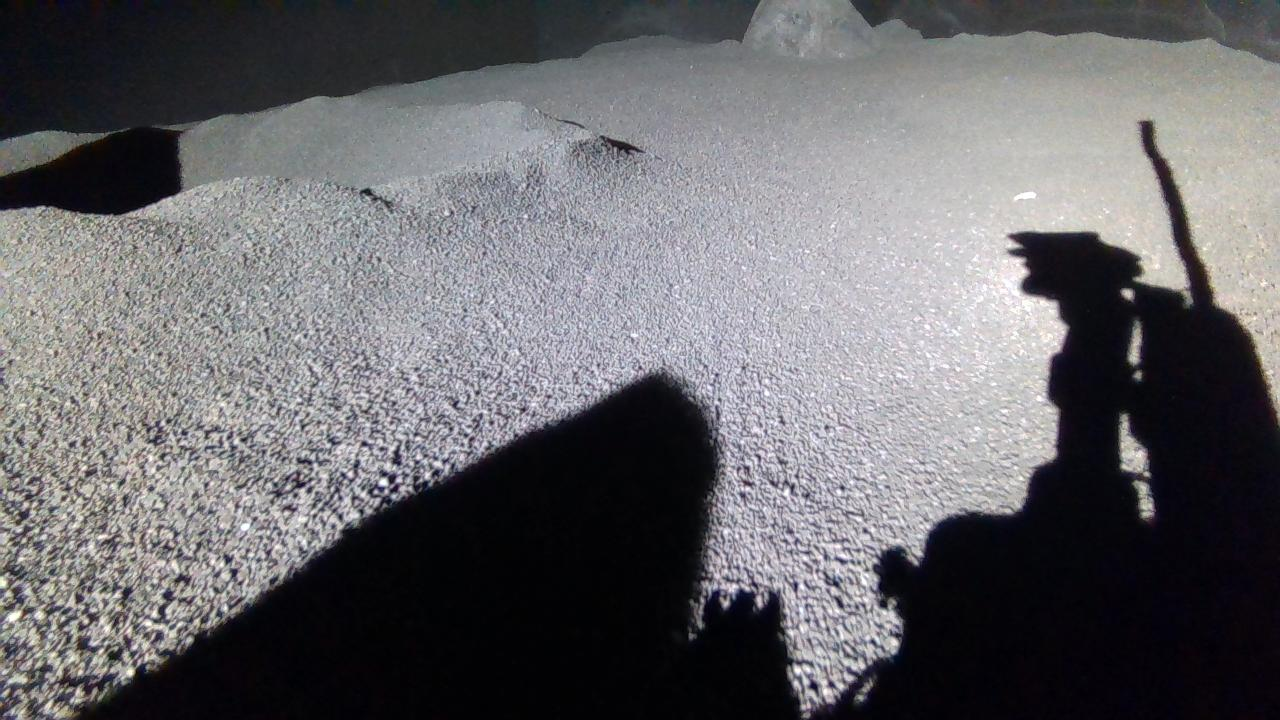rock: (744, 0, 881, 56)
